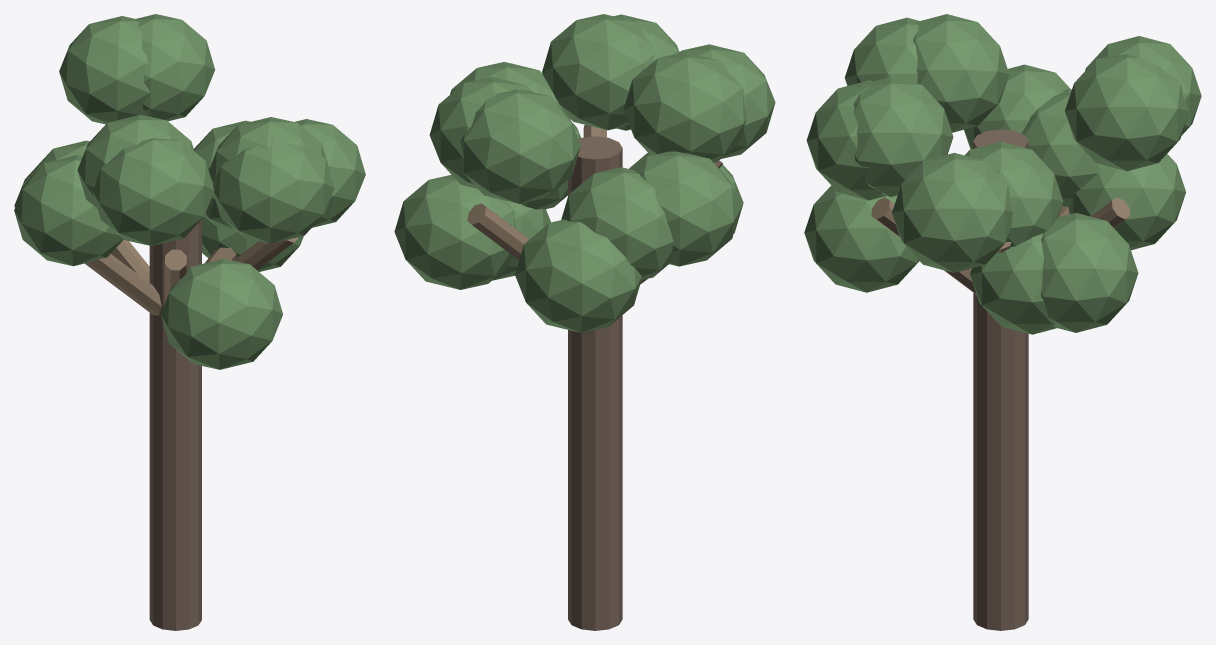
File: obstbaum_birne_sommer.glb
The picture shows the model from 3 angles, left to right: view 1: azimuth 30°, elevation 25°; view 2: azimuth 150°, elevation 25°; view 3: azimuth 270°, elevation 25°; orthographic projection. The views are drawn at different scales.
Visible parts, largest first — view 1: obstbaum_birne_sommer_000, obstbaum_birne_sommer_013, obstbaum_birne_sommer_008, obstbaum_birne_sommer_018, obstbaum_birne_sommer_009, obstbaum_birne_sommer_011, obstbaum_birne_sommer_017, obstbaum_birne_sommer_016, obstbaum_birne_sommer_015, obstbaum_birne_sommer_010, obstbaum_birne_sommer_004, obstbaum_birne_sommer_020 (+5 smaller); view 2: obstbaum_birne_sommer_000, obstbaum_birne_sommer_009, obstbaum_birne_sommer_016, obstbaum_birne_sommer_014, obstbaum_birne_sommer_012, obstbaum_birne_sommer_010, obstbaum_birne_sommer_011, obstbaum_birne_sommer_019, obstbaum_birne_sommer_017, obstbaum_birne_sommer_008, obstbaum_birne_sommer_015, obstbaum_birne_sommer_006 (+3 smaller); view 3: obstbaum_birne_sommer_000, obstbaum_birne_sommer_015, obstbaum_birne_sommer_017, obstbaum_birne_sommer_012, obstbaum_birne_sommer_010, obstbaum_birne_sommer_016, obstbaum_birne_sommer_013, obstbaum_birne_sommer_014, obstbaum_birne_sommer_020, obstbaum_birne_sommer_007, obstbaum_birne_sommer_018, obstbaum_birne_sommer_019 (+5 smaller).
Part boxes in pixels (x1,y1,x2,y2): obstbaum_birne_sommer_000: [149, 219, 201, 630]; obstbaum_birne_sommer_013: [160, 258, 282, 369]; obstbaum_birne_sommer_008: [92, 138, 214, 245]; obstbaum_birne_sommer_018: [213, 137, 334, 243]; obstbaum_birne_sommer_009: [59, 16, 150, 124]; obstbaum_birne_sommer_011: [14, 155, 123, 266]; obstbaum_birne_sommer_017: [136, 14, 215, 121]; obstbaum_birne_sommer_016: [77, 114, 193, 208]; obstbaum_birne_sommer_015: [295, 119, 365, 227]; obstbaum_birne_sommer_010: [208, 117, 330, 185]; obstbaum_birne_sommer_004: [85, 254, 161, 315]; obstbaum_birne_sommer_020: [202, 216, 303, 271]; obstbaum_birne_sommer_000: [568, 136, 622, 630]; obstbaum_birne_sommer_009: [460, 89, 580, 203]; obstbaum_birne_sommer_016: [623, 52, 746, 162]; obstbaum_birne_sommer_014: [515, 219, 642, 332]; obstbaum_birne_sommer_012: [394, 175, 515, 289]; obstbaum_birne_sommer_010: [542, 14, 655, 130]; obstbaum_birne_sommer_011: [632, 151, 740, 266]; obstbaum_birne_sommer_019: [561, 167, 673, 279]; obstbaum_birne_sommer_017: [429, 77, 531, 188]; obstbaum_birne_sommer_008: [679, 44, 775, 158]; obstbaum_birne_sommer_015: [450, 62, 566, 114]; obstbaum_birne_sommer_006: [467, 203, 529, 259]; obstbaum_birne_sommer_000: [973, 129, 1028, 630]; obstbaum_birne_sommer_015: [892, 152, 1012, 272]; obstbaum_birne_sommer_017: [1065, 54, 1189, 171]; obstbaum_birne_sommer_012: [1041, 213, 1138, 332]; obstbaum_birne_sommer_010: [853, 77, 953, 196]; obstbaum_birne_sommer_016: [913, 14, 1009, 132]; obstbaum_birne_sommer_013: [804, 185, 919, 292]; obstbaum_birne_sommer_014: [1068, 154, 1185, 250]; obstbaum_birne_sommer_020: [970, 233, 1056, 334]; obstbaum_birne_sommer_007: [964, 141, 1063, 247]; obstbaum_birne_sommer_018: [806, 80, 885, 200]; obstbaum_birne_sommer_019: [1021, 89, 1102, 206].
Size of the model in its own units: 2.68 by 4.62 by 2.86.
